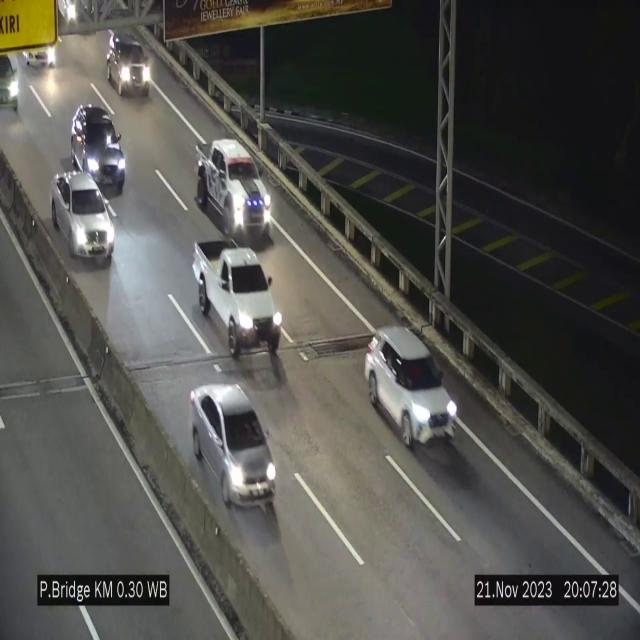Car: (188, 378, 278, 512), (364, 327, 460, 447), (191, 236, 281, 352), (192, 132, 273, 241), (52, 170, 115, 261), (69, 102, 128, 195), (104, 32, 154, 102), (0, 52, 22, 119)
